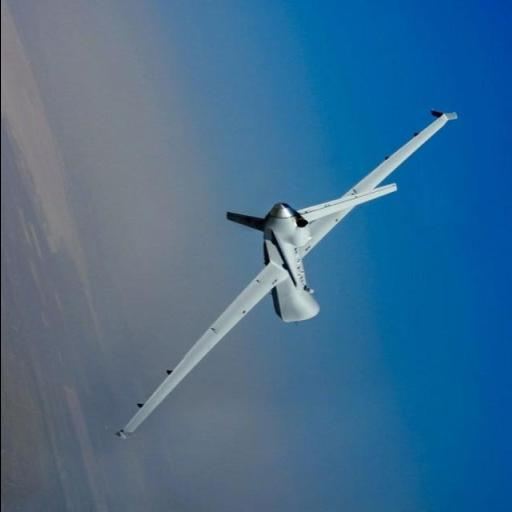uav: (108, 106, 466, 444)
